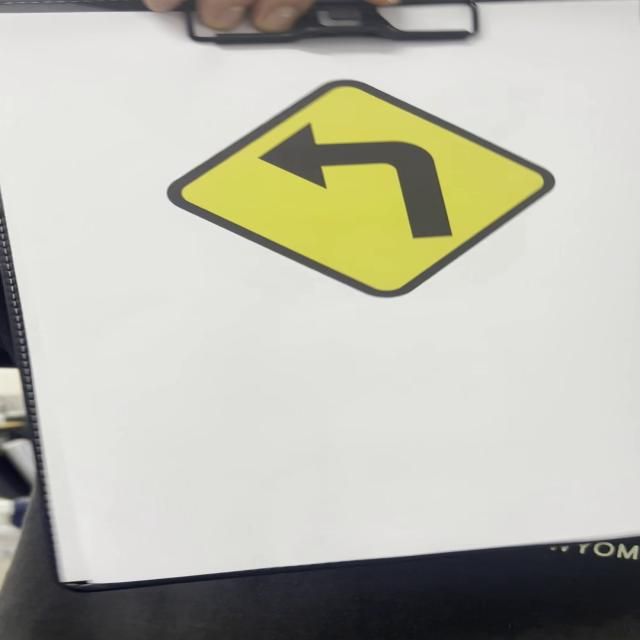left: (173, 78, 548, 297)
